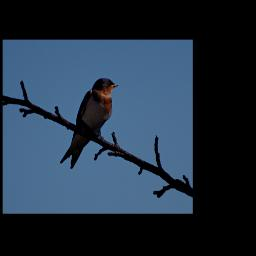Swallow: (60, 78, 118, 169)
